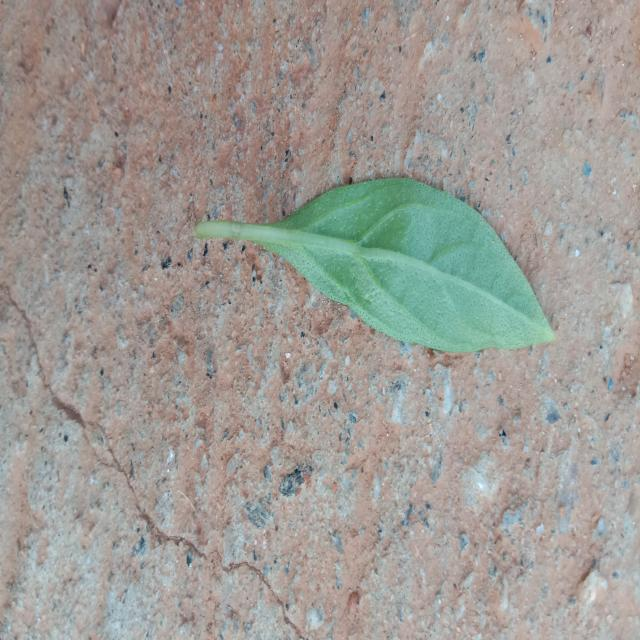kamakasturi: (195, 179, 554, 352)
